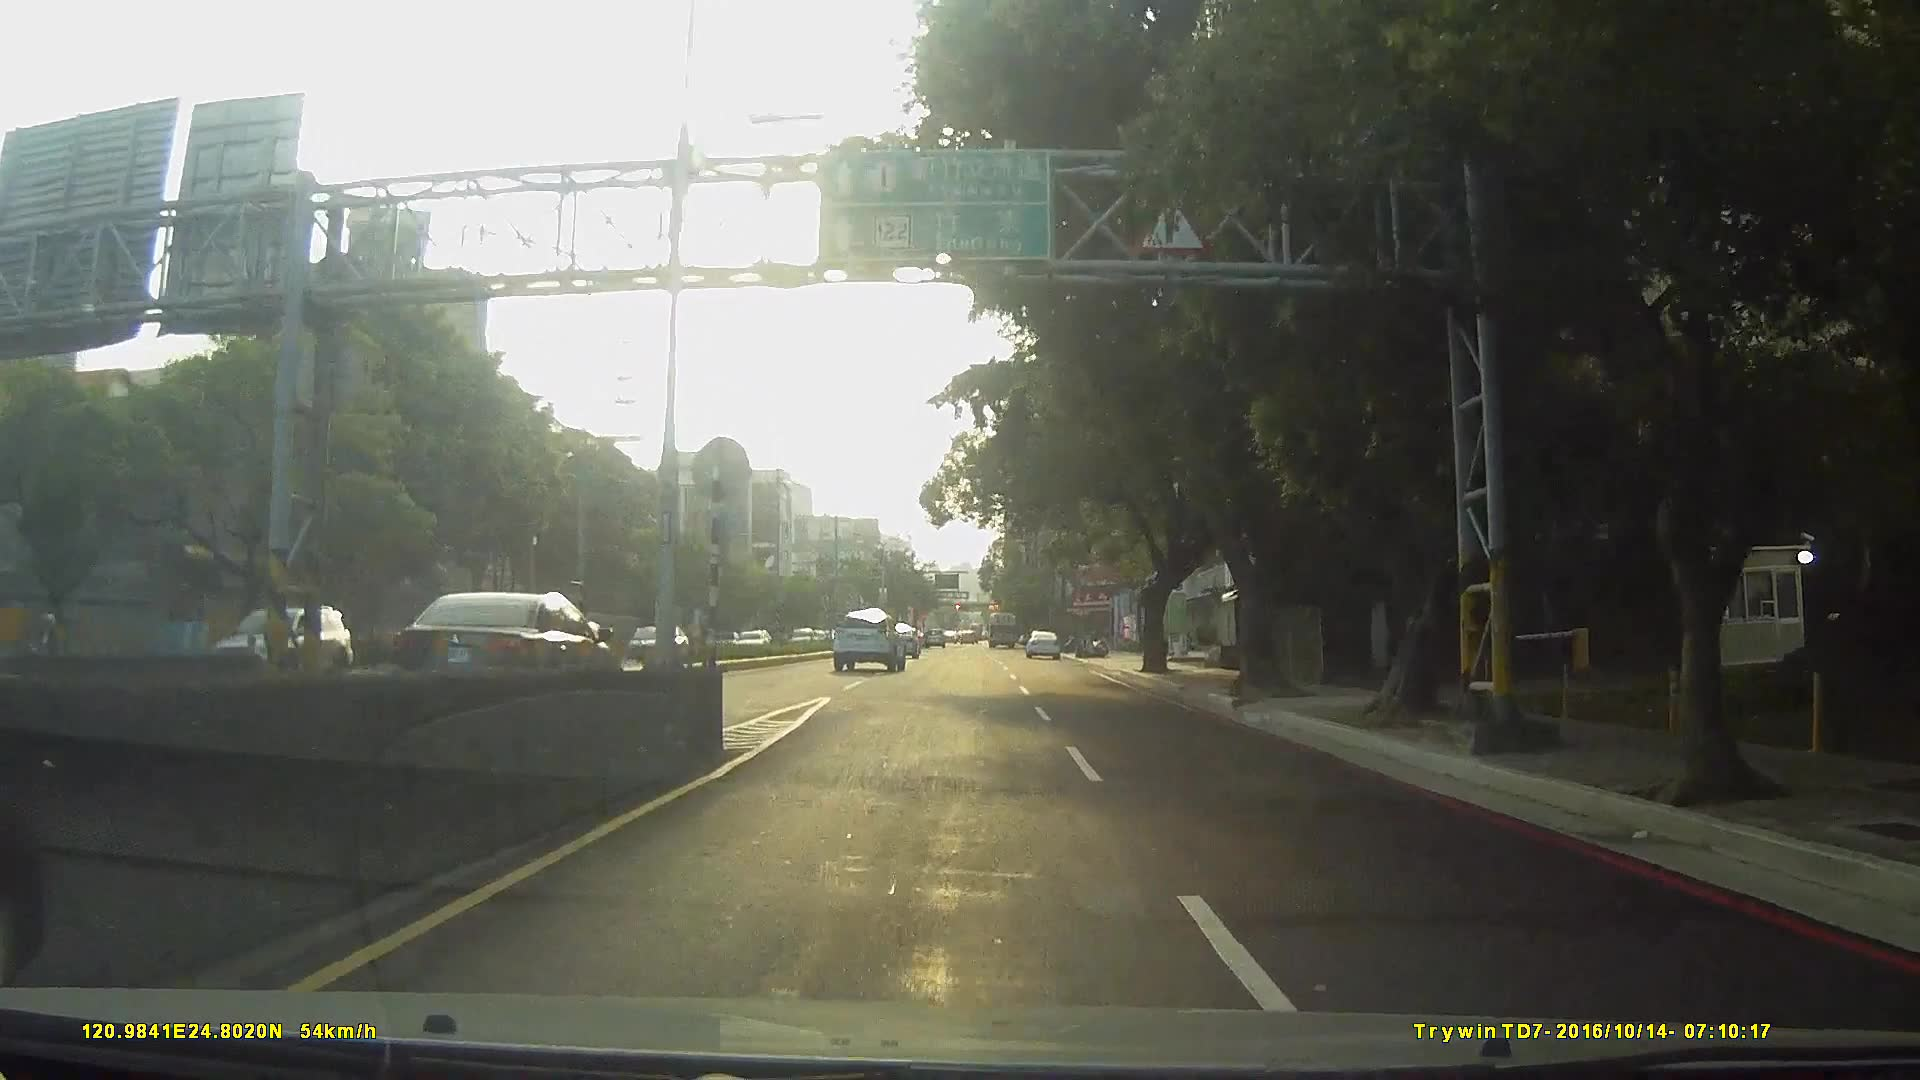vehicle: (386, 589, 622, 707), (829, 608, 906, 674), (985, 611, 1017, 651), (884, 626, 920, 661), (1022, 628, 1060, 659)
